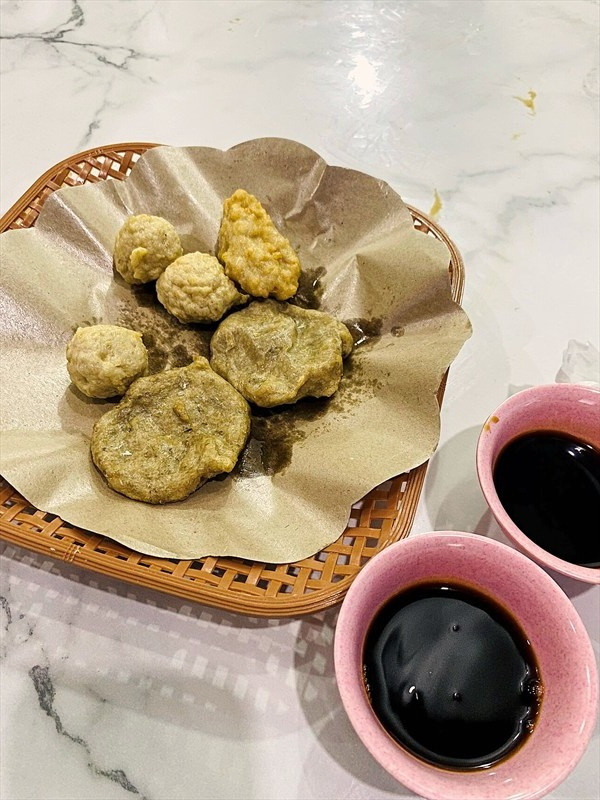Pempek: (62, 179, 568, 748)
